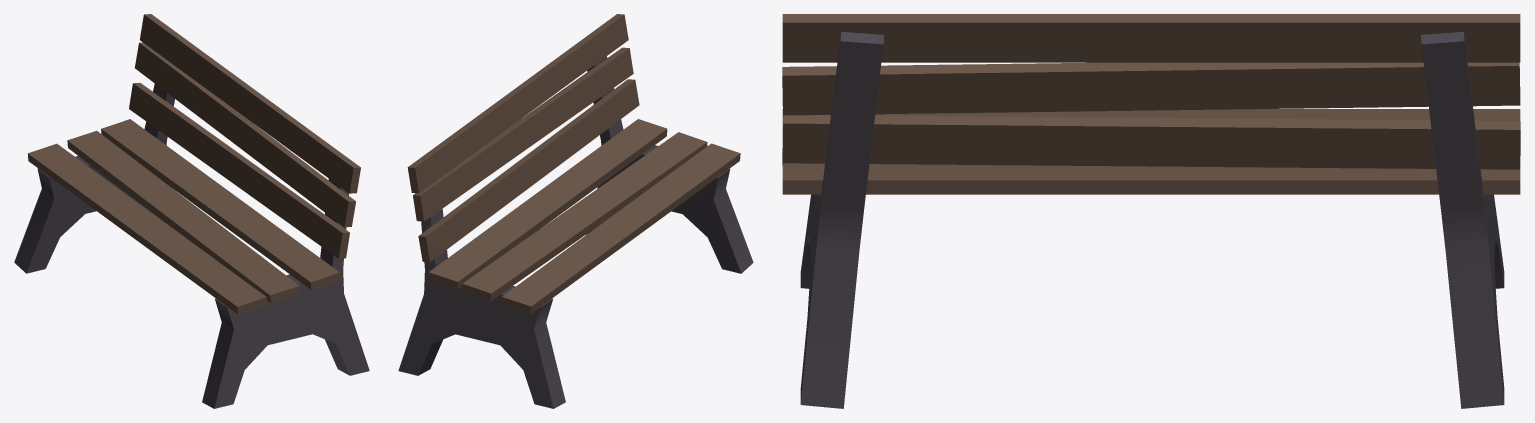
The model's file is Bench_01.fbx.
3 renders of one model, left to right at view 1: azimuth 30°, elevation 25°; view 2: azimuth 150°, elevation 25°; view 3: azimuth 270°, elevation 25°, orthographic. The views are drawn at different scales.
Parts seen in each view (by area): view 1: Bench_01; view 2: Bench_01; view 3: Bench_01.
Part boxes in pixels (x1=…): Bench_01: x1=14, y1=14, x2=369, y2=408; Bench_01: x1=398, y1=14, x2=753, y2=408; Bench_01: x1=782, y1=14, x2=1520, y2=408.
Bounding box in the file's own units: 95.73 × 126 × 224.
1 material, 1 textured.
